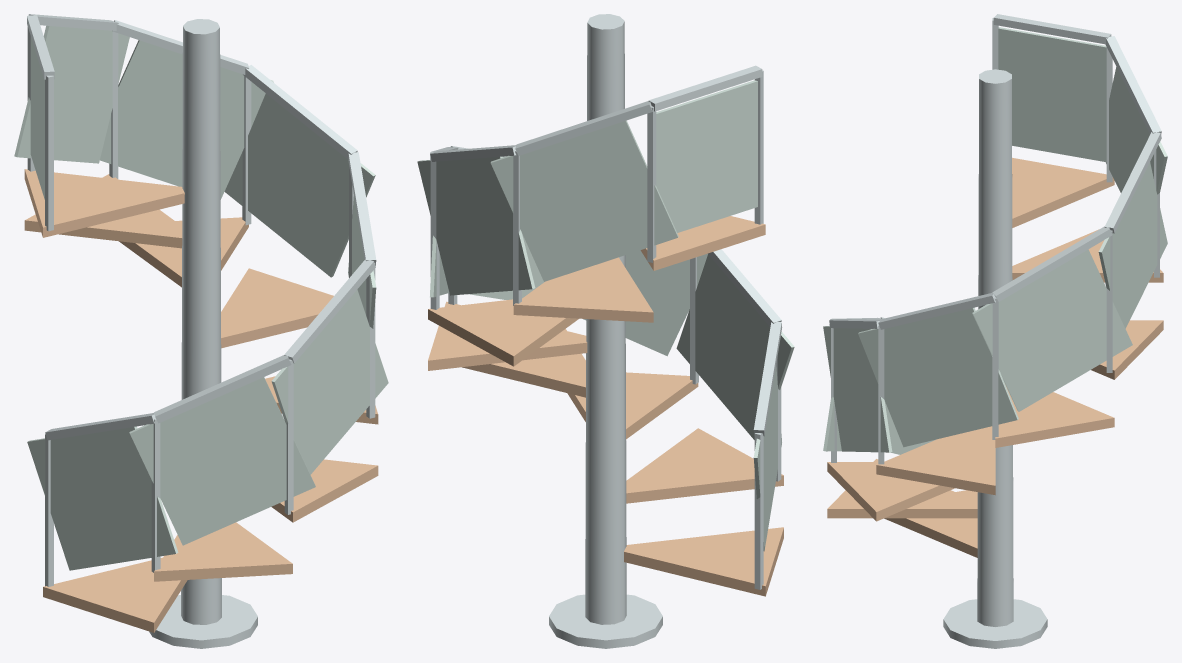
File: stairSpiralGlass.glb
3 renders of one model, left to right at view 1: azimuth 30°, elevation 25°; view 2: azimuth 150°, elevation 25°; view 3: azimuth 270°, elevation 25°, orthographic. The views are drawn at different scales.
Parts seen in each view (by area): view 1: stairSpiralGlass; view 2: stairSpiralGlass; view 3: stairSpiralGlass.
Boxes of the visible parts, x1,y1,x2,y2 form: stairSpiralGlass: (14,14,388,648); stairSpiralGlass: (417,14,794,648); stairSpiralGlass: (823,14,1167,648).
Size of the model in its own units: 0.9935 by 1.75 by 0.9935.
